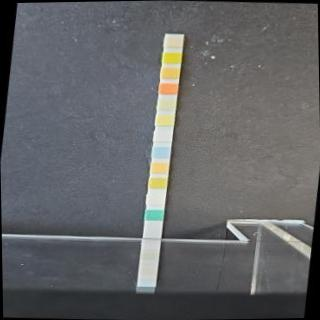mark: (164, 36, 183, 48), (146, 192, 165, 204), (162, 52, 180, 64), (159, 82, 177, 94), (157, 98, 175, 110), (145, 208, 163, 220), (161, 66, 178, 78), (153, 145, 170, 157), (151, 160, 167, 172), (156, 114, 173, 125), (150, 177, 167, 188), (154, 130, 170, 141)
